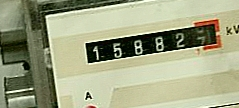1: (87, 42, 99, 59)
2: (170, 28, 183, 46)
5: (108, 38, 120, 56)
7: (193, 32, 204, 44)
8: (129, 36, 141, 54), (150, 32, 162, 50)
screen: (74, 11, 226, 71)
